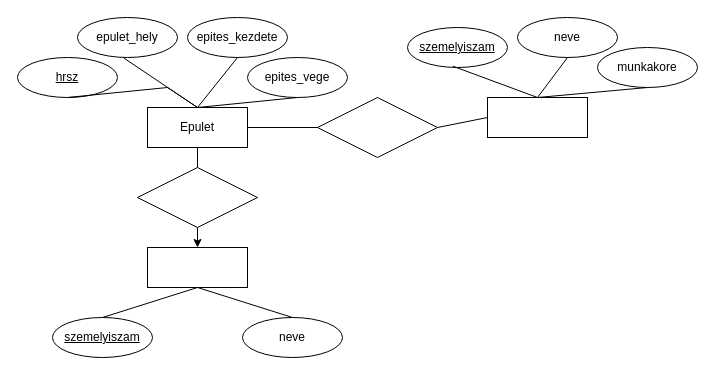
The diagram is 715 pixels wide and 375 high, and some of its shapes have lost their labels. The box of each missing label's shape, as (x1, y1, x2, y2) in pixels:
Dolgozik: (316, 96, 438, 158)
Epitesz: (146, 246, 248, 288)
Munkas: (486, 96, 588, 138)
Tervez: (136, 166, 258, 228)
